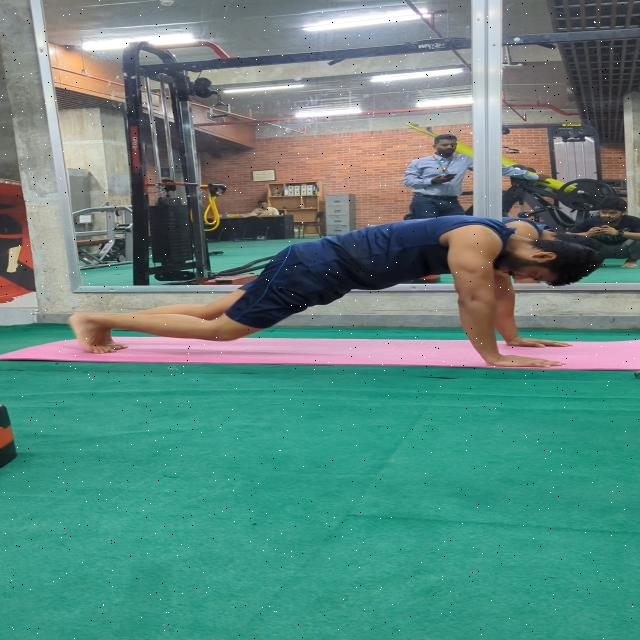Normal_MountainClimbers: (53, 209, 602, 369)
